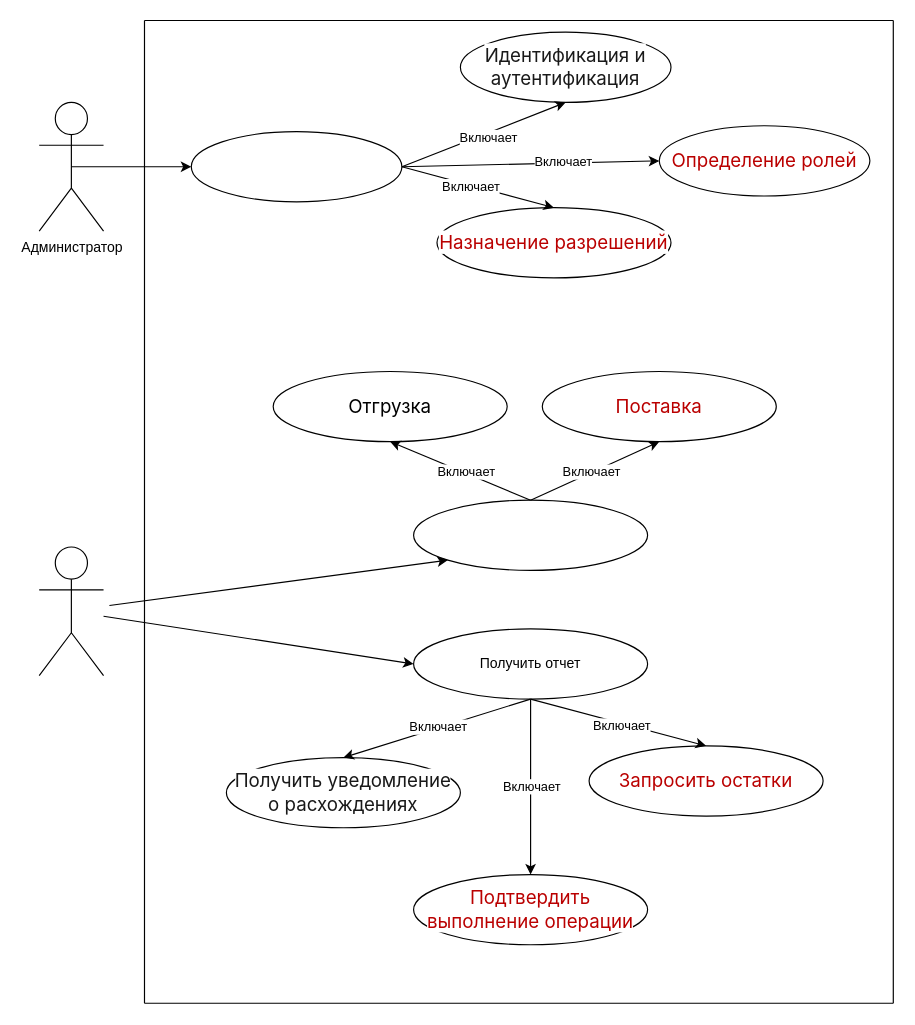
Image size: 915x1025. Some labels were removed from this diagram. The shapes that lost their labels are listed below. From the top down, each one's centre as x and y in pixels, then its label:
At point 296,166: "Настройка прав доступа".
At point 530,534: "Оставить заявку".
At point 71,611: "Пользователь".
